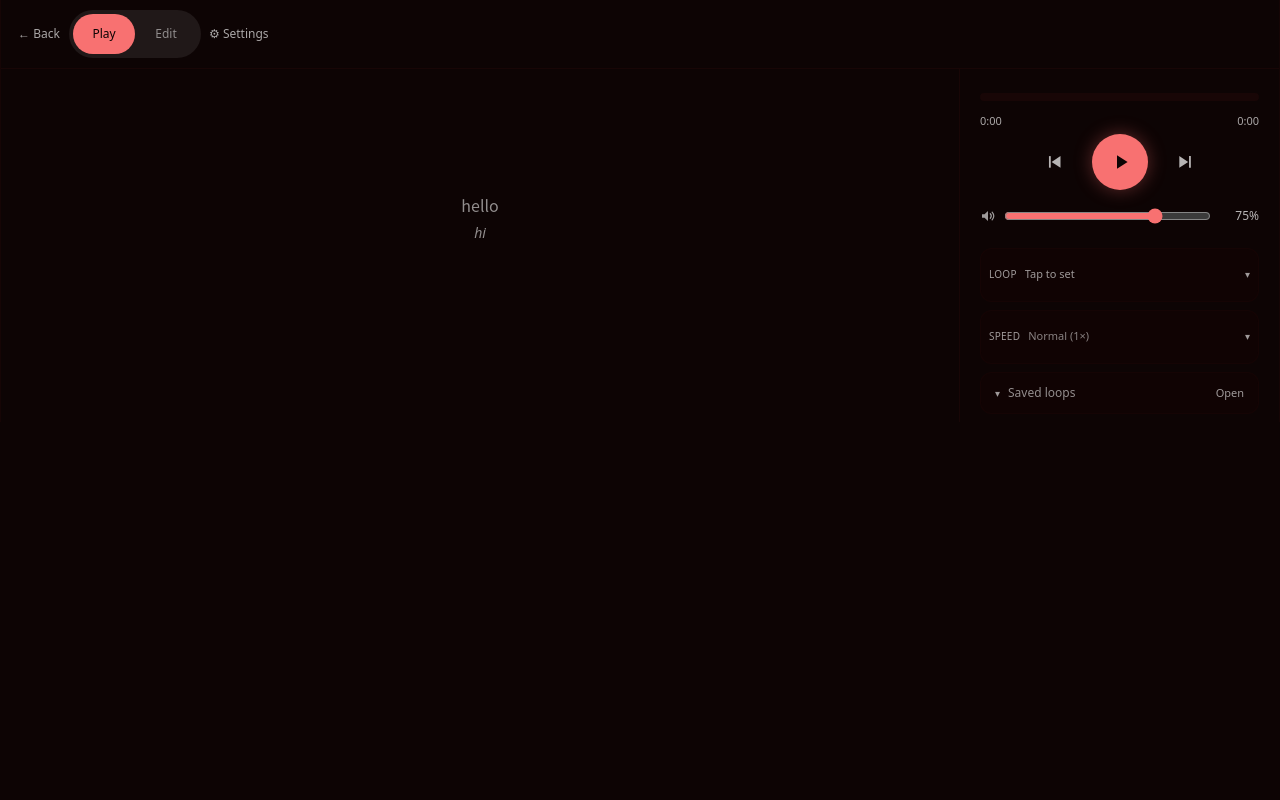
PlayerView — replace-lyrics dialog › closes on a click on the backdrop
Check: the text "hello" is shown, box [461,193,499,217]
Click the button "Edit" at (166, 34), box [135,14,197,54]
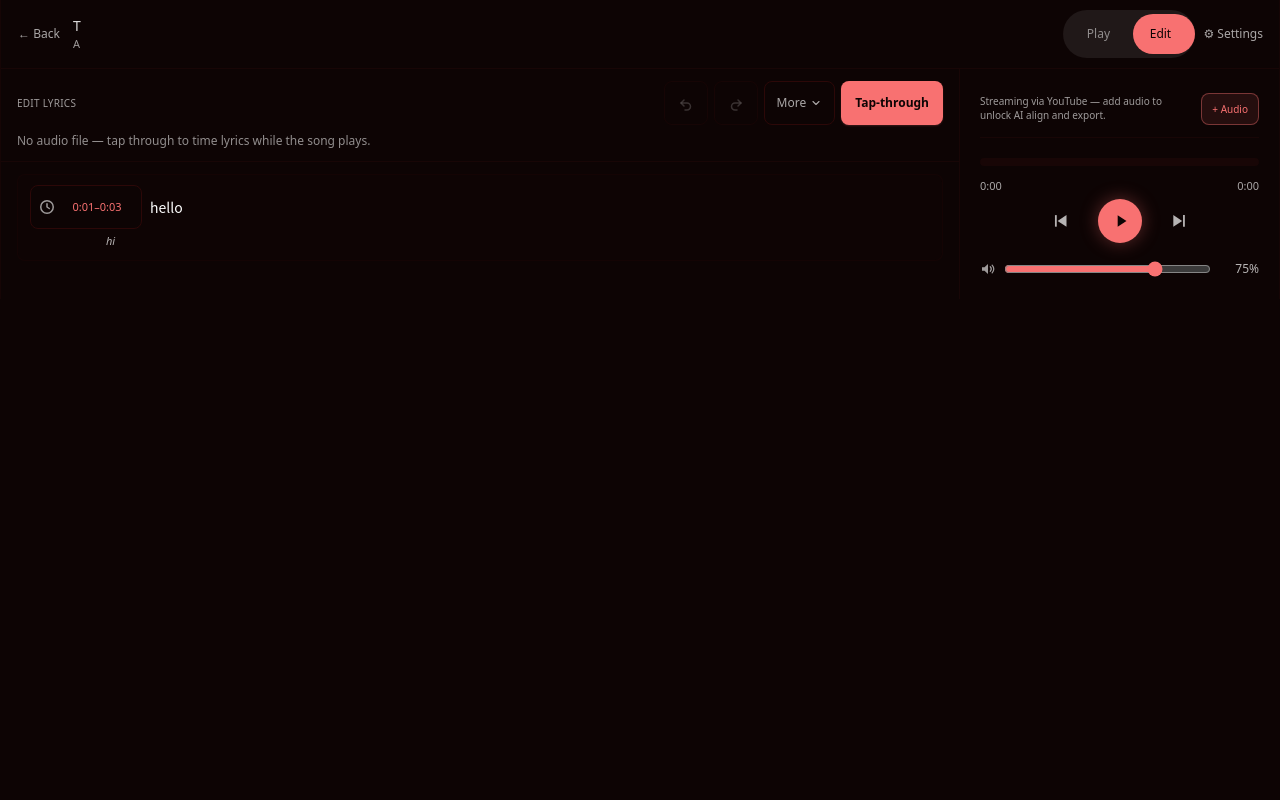
Check: the button named "edit timestamp for line 1" is shown, box [30,185,142,229]
Click the button "More" at (799, 103), box [764,81,835,125]
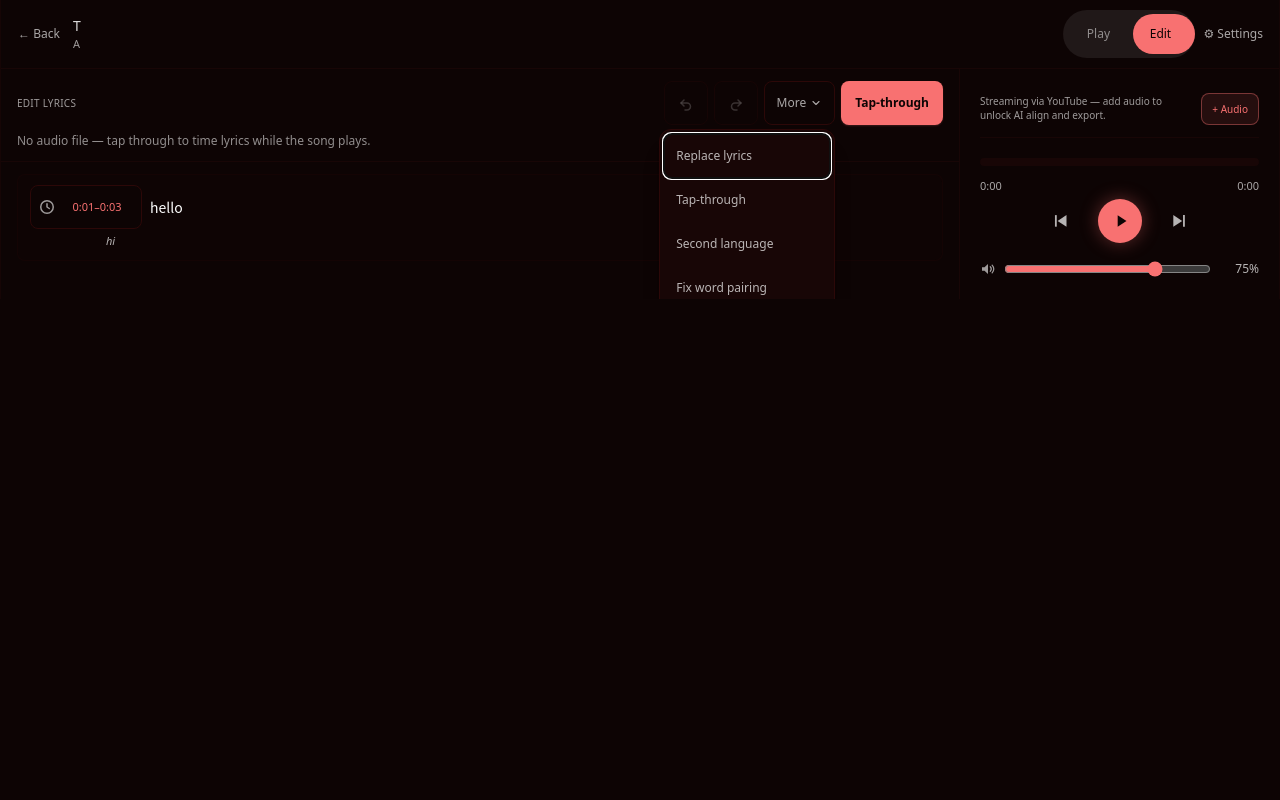
Click the button "Replace lyrics" at (747, 156), box [664,134,830,178]
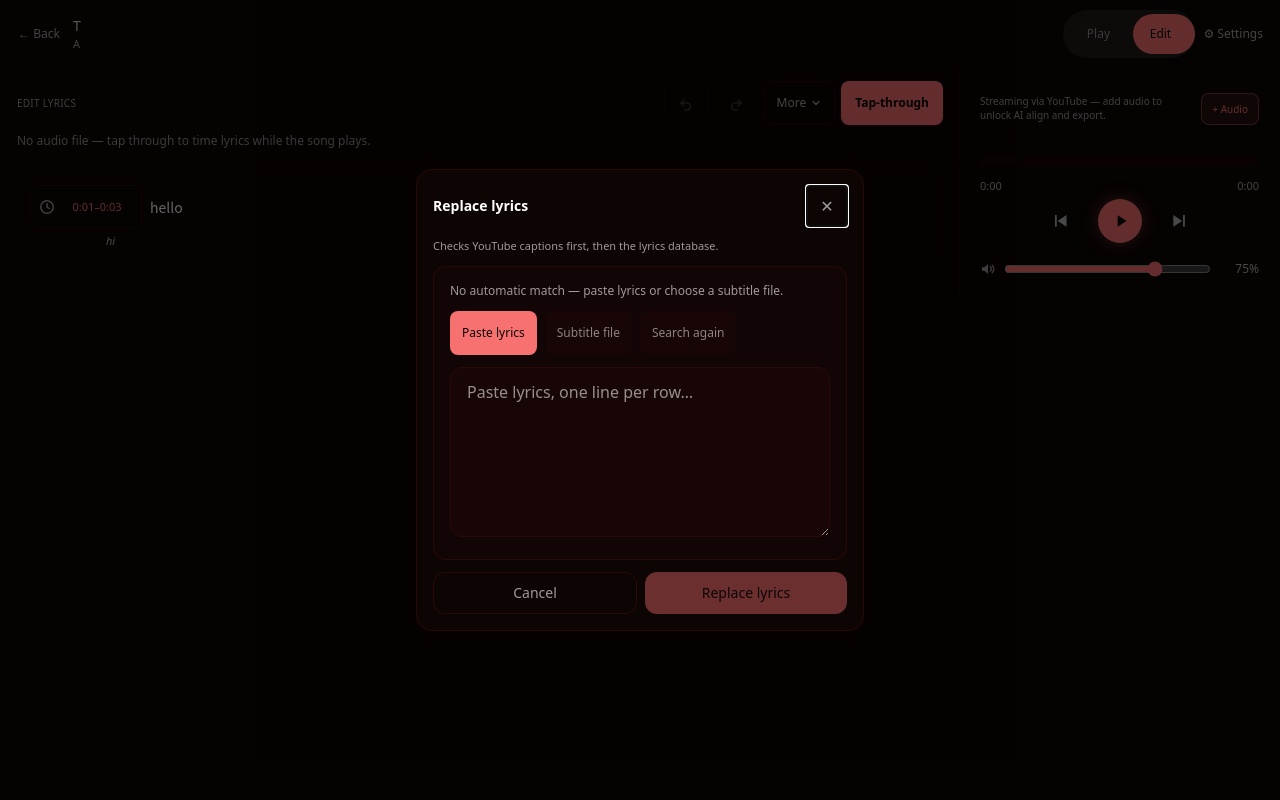
Check: the text "No automatic match — paste lyrics or choose a subtitle file." is shown, box [450,283,830,299]
Check: the dialog "Replace lyrics" is shown
Check: the button named "Dismiss" is shown
Click the button named "Dismiss" at (77, 400), box [0,0,1279,799]
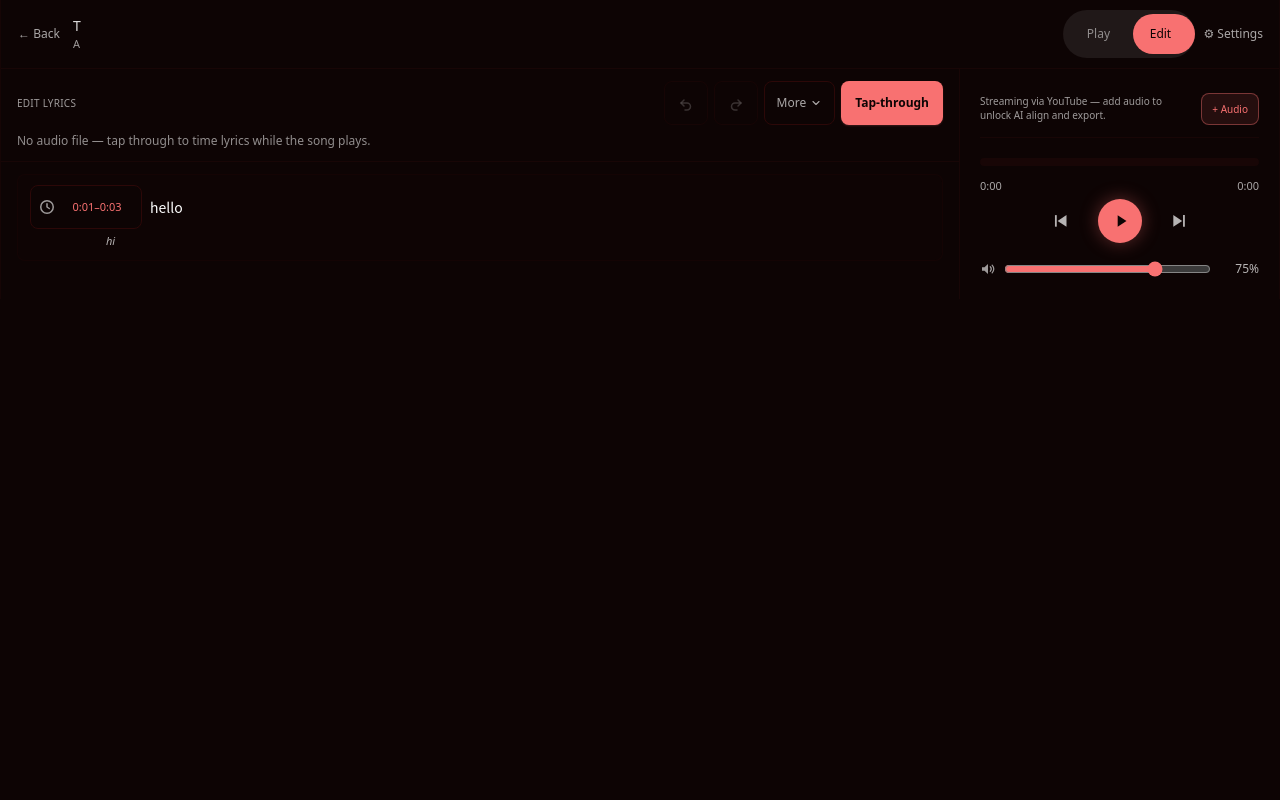
Check: the heading "Replace lyrics" is gone
